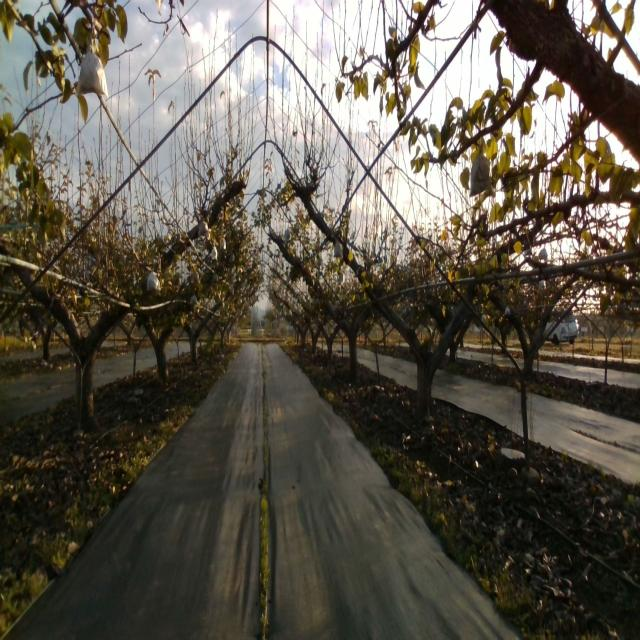pearbags: (75, 50, 106, 96), (469, 144, 491, 198), (146, 268, 162, 291), (333, 239, 343, 261), (198, 218, 209, 238)
